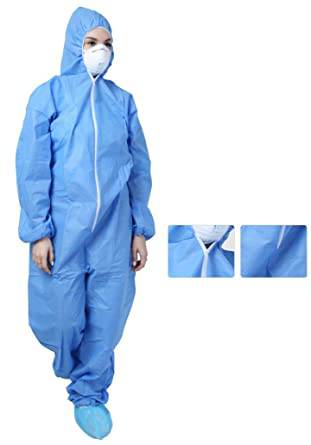Coverall: (14, 6, 151, 390)
with_mask: (80, 35, 112, 77)
